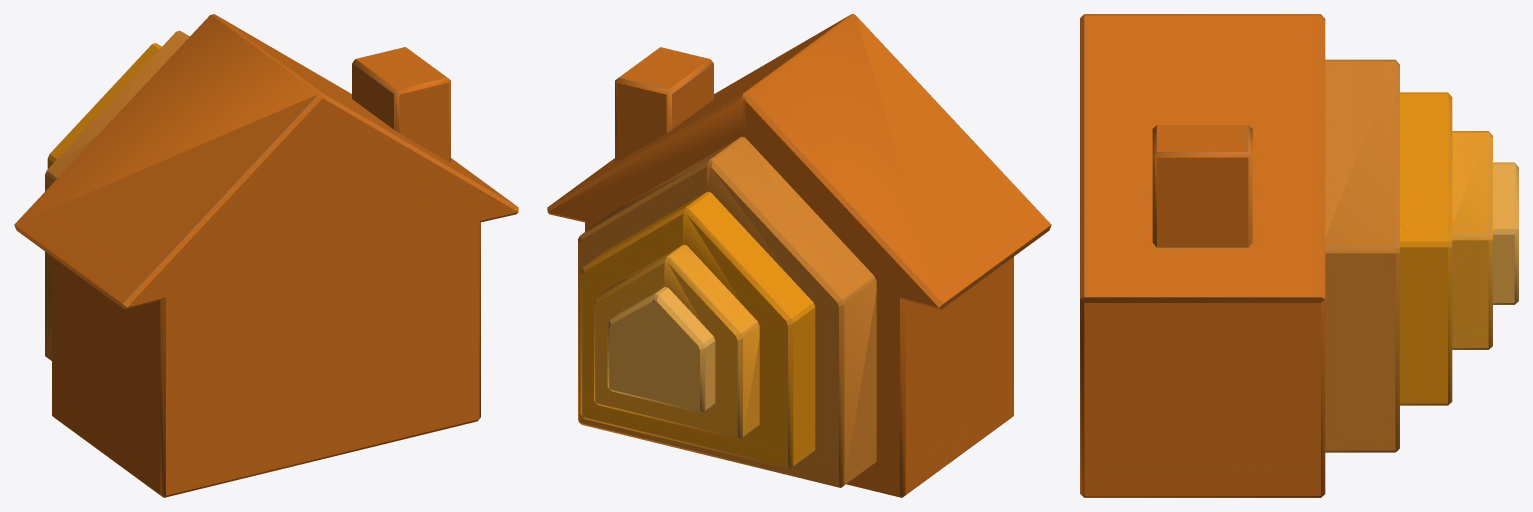
The model's file is asset.gltf.
3 renders of one model, left to right at view 1: azimuth 30°, elevation 25°; view 2: azimuth 150°, elevation 25°; view 3: azimuth 270°, elevation 25°, orthographic. The views are drawn at different scales.
Visible parts, largest first — view 1: Home; view 2: Home; view 3: Home.
Boxes of the visible parts, x1,y1,x2,y2 form: Home: [14, 14, 518, 497]; Home: [547, 14, 1051, 497]; Home: [1080, 14, 1518, 497].
Bounding box in the file's own units: 11.41 × 10.08 × 10.04.
Materials: 1 (1 with a texture image).
